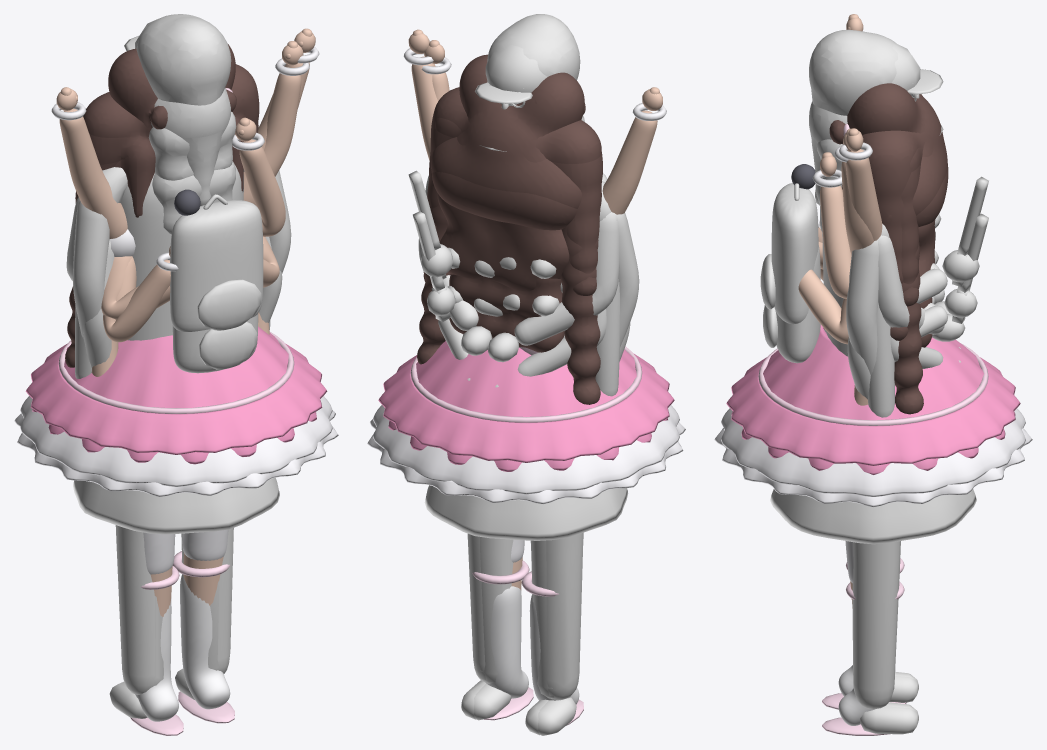
File: figures.glb
The picture shows the model from 3 angles, left to right: view 1: azimuth 30°, elevation 25°; view 2: azimuth 150°, elevation 25°; view 3: azimuth 270°, elevation 25°; orthographic projection. The views are drawn at different scales.
Parts seen in each view (by area): view 1: Idol_Body_SkirtTier, Idol_Body_Skirt, Idol_Body_Petticoat, Aud_M_Bag, Aud_F_Skirt, Aud_M_Pants, Idol_Body_Boots, Idol_Arms_mic_Arms, Aud_M_Hair3, Idol_Arms_both_Arms, Aud_M_Shirt, Aud_M_PosePocketL (+32 smaller); view 2: Idol_Body_SkirtTier, Idol_Body_Skirt, Idol_Hair_bobBuns_Hair, Idol_Body_Petticoat, Idol_Hair_twinLong_Hair, Aud_M_Pants, Aud_F_Skirt, Idol_Hair_bob_Hair, Idol_Hair_wavy_Hair, Idol_Hair_long_Hair, Aud_F_Pants, Idol_Body_Boots (+25 smaller); view 3: Idol_Body_SkirtTier, Idol_Body_Skirt, Idol_Body_Petticoat, Aud_M_Pants, Aud_F_Skirt, Aud_M_Bag, Idol_Hair_sidePony_Hair, Idol_Hair_bobBuns_Hair, Aud_M_PosePocketR, Idol_Body_PetticoatLace, Aud_M_Hair0, Idol_Hair_twinLong_Hair (+30 smaller).
Boxes of the visible parts, x1=… form: Idol_Body_SkirtTier: x1=25, y1=343, x2=327, y2=454; Idol_Body_Skirt: x1=32, y1=326, x2=316, y2=464; Idol_Body_Petticoat: x1=20, y1=396, x2=332, y2=486; Aud_M_Bag: x1=170, y1=200, x2=263, y2=331; Aud_F_Skirt: x1=73, y1=477, x2=279, y2=534; Aud_M_Pants: x1=115, y1=525, x2=233, y2=694; Idol_Body_Boots: x1=135, y1=574, x2=230, y2=721; Idol_Arms_mic_Arms: x1=103, y1=67, x2=301, y2=342; Aud_M_Hair3: x1=145, y1=14, x2=231, y2=94; Idol_Arms_both_Arms: x1=59, y1=55, x2=309, y2=238; Aud_M_Shirt: x1=120, y1=164, x2=243, y2=340; Aud_M_PosePocketL: x1=73, y1=200, x2=109, y2=339; Idol_Body_SkirtTier: x1=378, y1=353, x2=674, y2=462; Idol_Body_Skirt: x1=388, y1=340, x2=667, y2=471; Idol_Hair_bobBuns_Hair: x1=432, y1=54, x2=584, y2=230; Idol_Body_Petticoat: x1=373, y1=405, x2=679, y2=494; Idol_Hair_twinLong_Hair: x1=417, y1=117, x2=601, y2=404; Aud_M_Pants: x1=467, y1=532, x2=583, y2=700; Aud_F_Skirt: x1=424, y1=485, x2=628, y2=540; Idol_Hair_bob_Hair: x1=431, y1=105, x2=585, y2=208; Idol_Hair_wavy_Hair: x1=437, y1=120, x2=569, y2=291; Idol_Hair_long_Hair: x1=449, y1=112, x2=564, y2=352; Aud_F_Pants: x1=480, y1=537, x2=555, y2=699; Idol_Body_Boots: x1=486, y1=586, x2=579, y2=704; Idol_Body_SkirtTier: x1=726, y1=357, x2=1020, y2=465; Idol_Body_Skirt: x1=731, y1=324, x2=1015, y2=474; Idol_Body_Petticoat: x1=721, y1=408, x2=1025, y2=496; Aud_M_Pants: x1=852, y1=541, x2=900, y2=709; Aud_F_Skirt: x1=770, y1=489, x2=976, y2=544; Aud_M_Bag: x1=771, y1=183, x2=818, y2=324; Idol_Hair_sidePony_Hair: x1=833, y1=115, x2=935, y2=340; Idol_Hair_bobBuns_Hair: x1=830, y1=83, x2=948, y2=226; Aud_M_PosePocketR: x1=846, y1=240, x2=878, y2=375; Idol_Body_PetticoatLace: x1=714, y1=428, x2=1032, y2=506; Aud_M_Hair0: x1=809, y1=33, x2=897, y2=114; Idol_Hair_twinLong_Hair: x1=894, y1=147, x2=923, y2=414.
Bounding box in the file's own units: 0.7277 × 1.73 × 0.7277.
